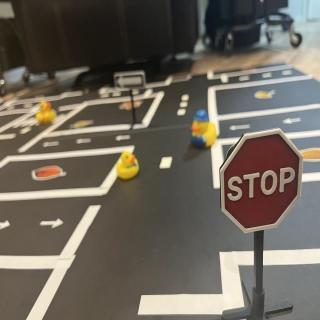duck_regular: (117, 152, 141, 182)
duck_specialty: (190, 109, 220, 151), (38, 100, 58, 127)
road_crosswalk: (12, 113, 72, 129)
road_oneway: (37, 216, 67, 232), (229, 124, 255, 132), (283, 118, 307, 126), (1, 218, 13, 233), (44, 141, 64, 149), (76, 138, 96, 146), (117, 135, 132, 143)
sign_oneway_left: (113, 73, 149, 91)
sign_stop: (222, 126, 306, 236)
